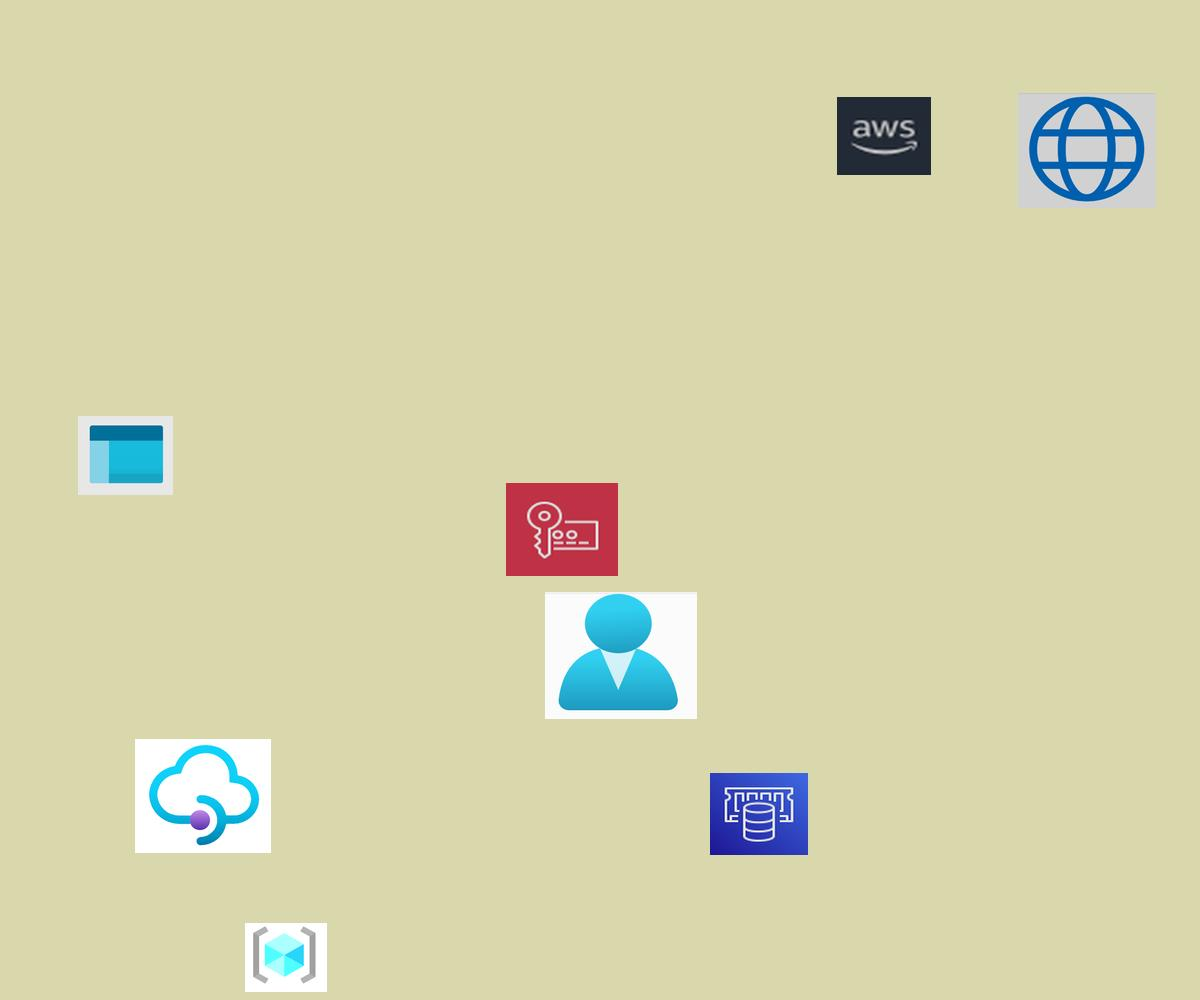AWS-Cloud-logo: (837, 97, 931, 175)
AWS-ElastiCache: (710, 773, 808, 855)
AWS-Key-Management-Service: (506, 483, 618, 576)
Azure_api_gateway: (135, 739, 271, 853)
Azure_http: (1018, 93, 1156, 208)
Azure_management-portal: (78, 416, 173, 495)
Azure_resource_group: (245, 923, 327, 992)
Azure_users: (545, 592, 697, 719)
